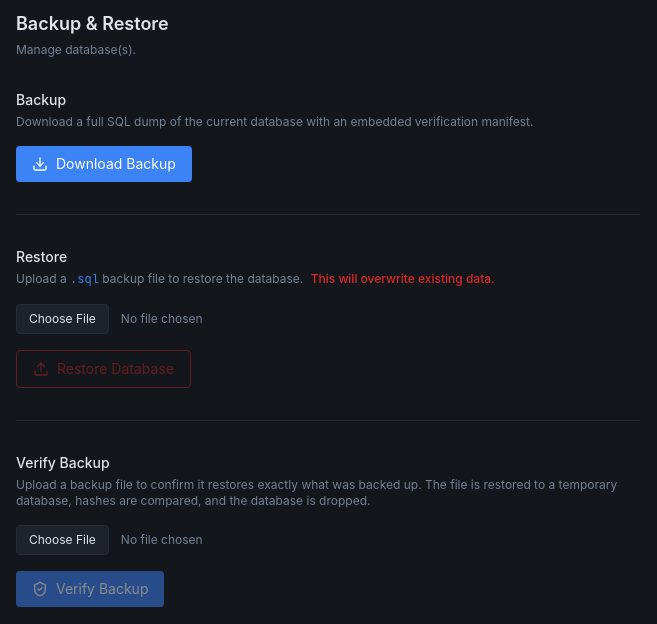
BackupRestorePage › disables backup button while request is in progress
What coordinates should you click on to do the following:
click the button "Download Backup"
I would click on:
 (104, 164)
Its box is [16,146,192,182].
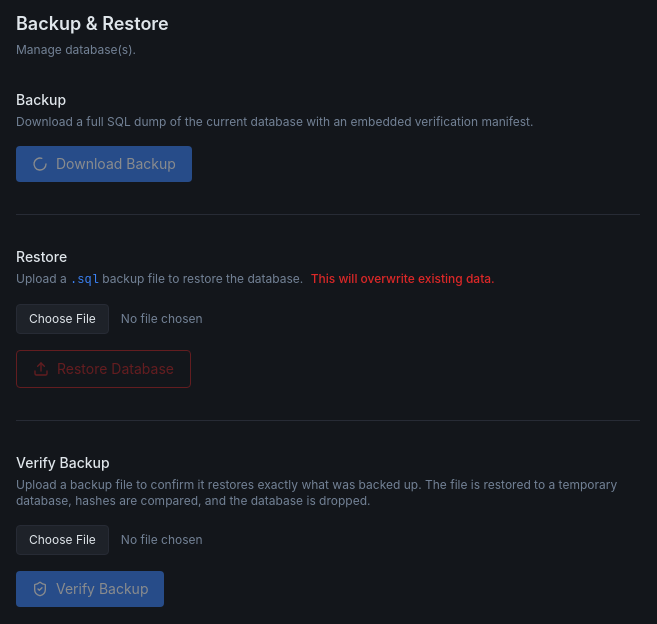
Now the button "Download Backup" is disabled, box [16,146,192,182]
